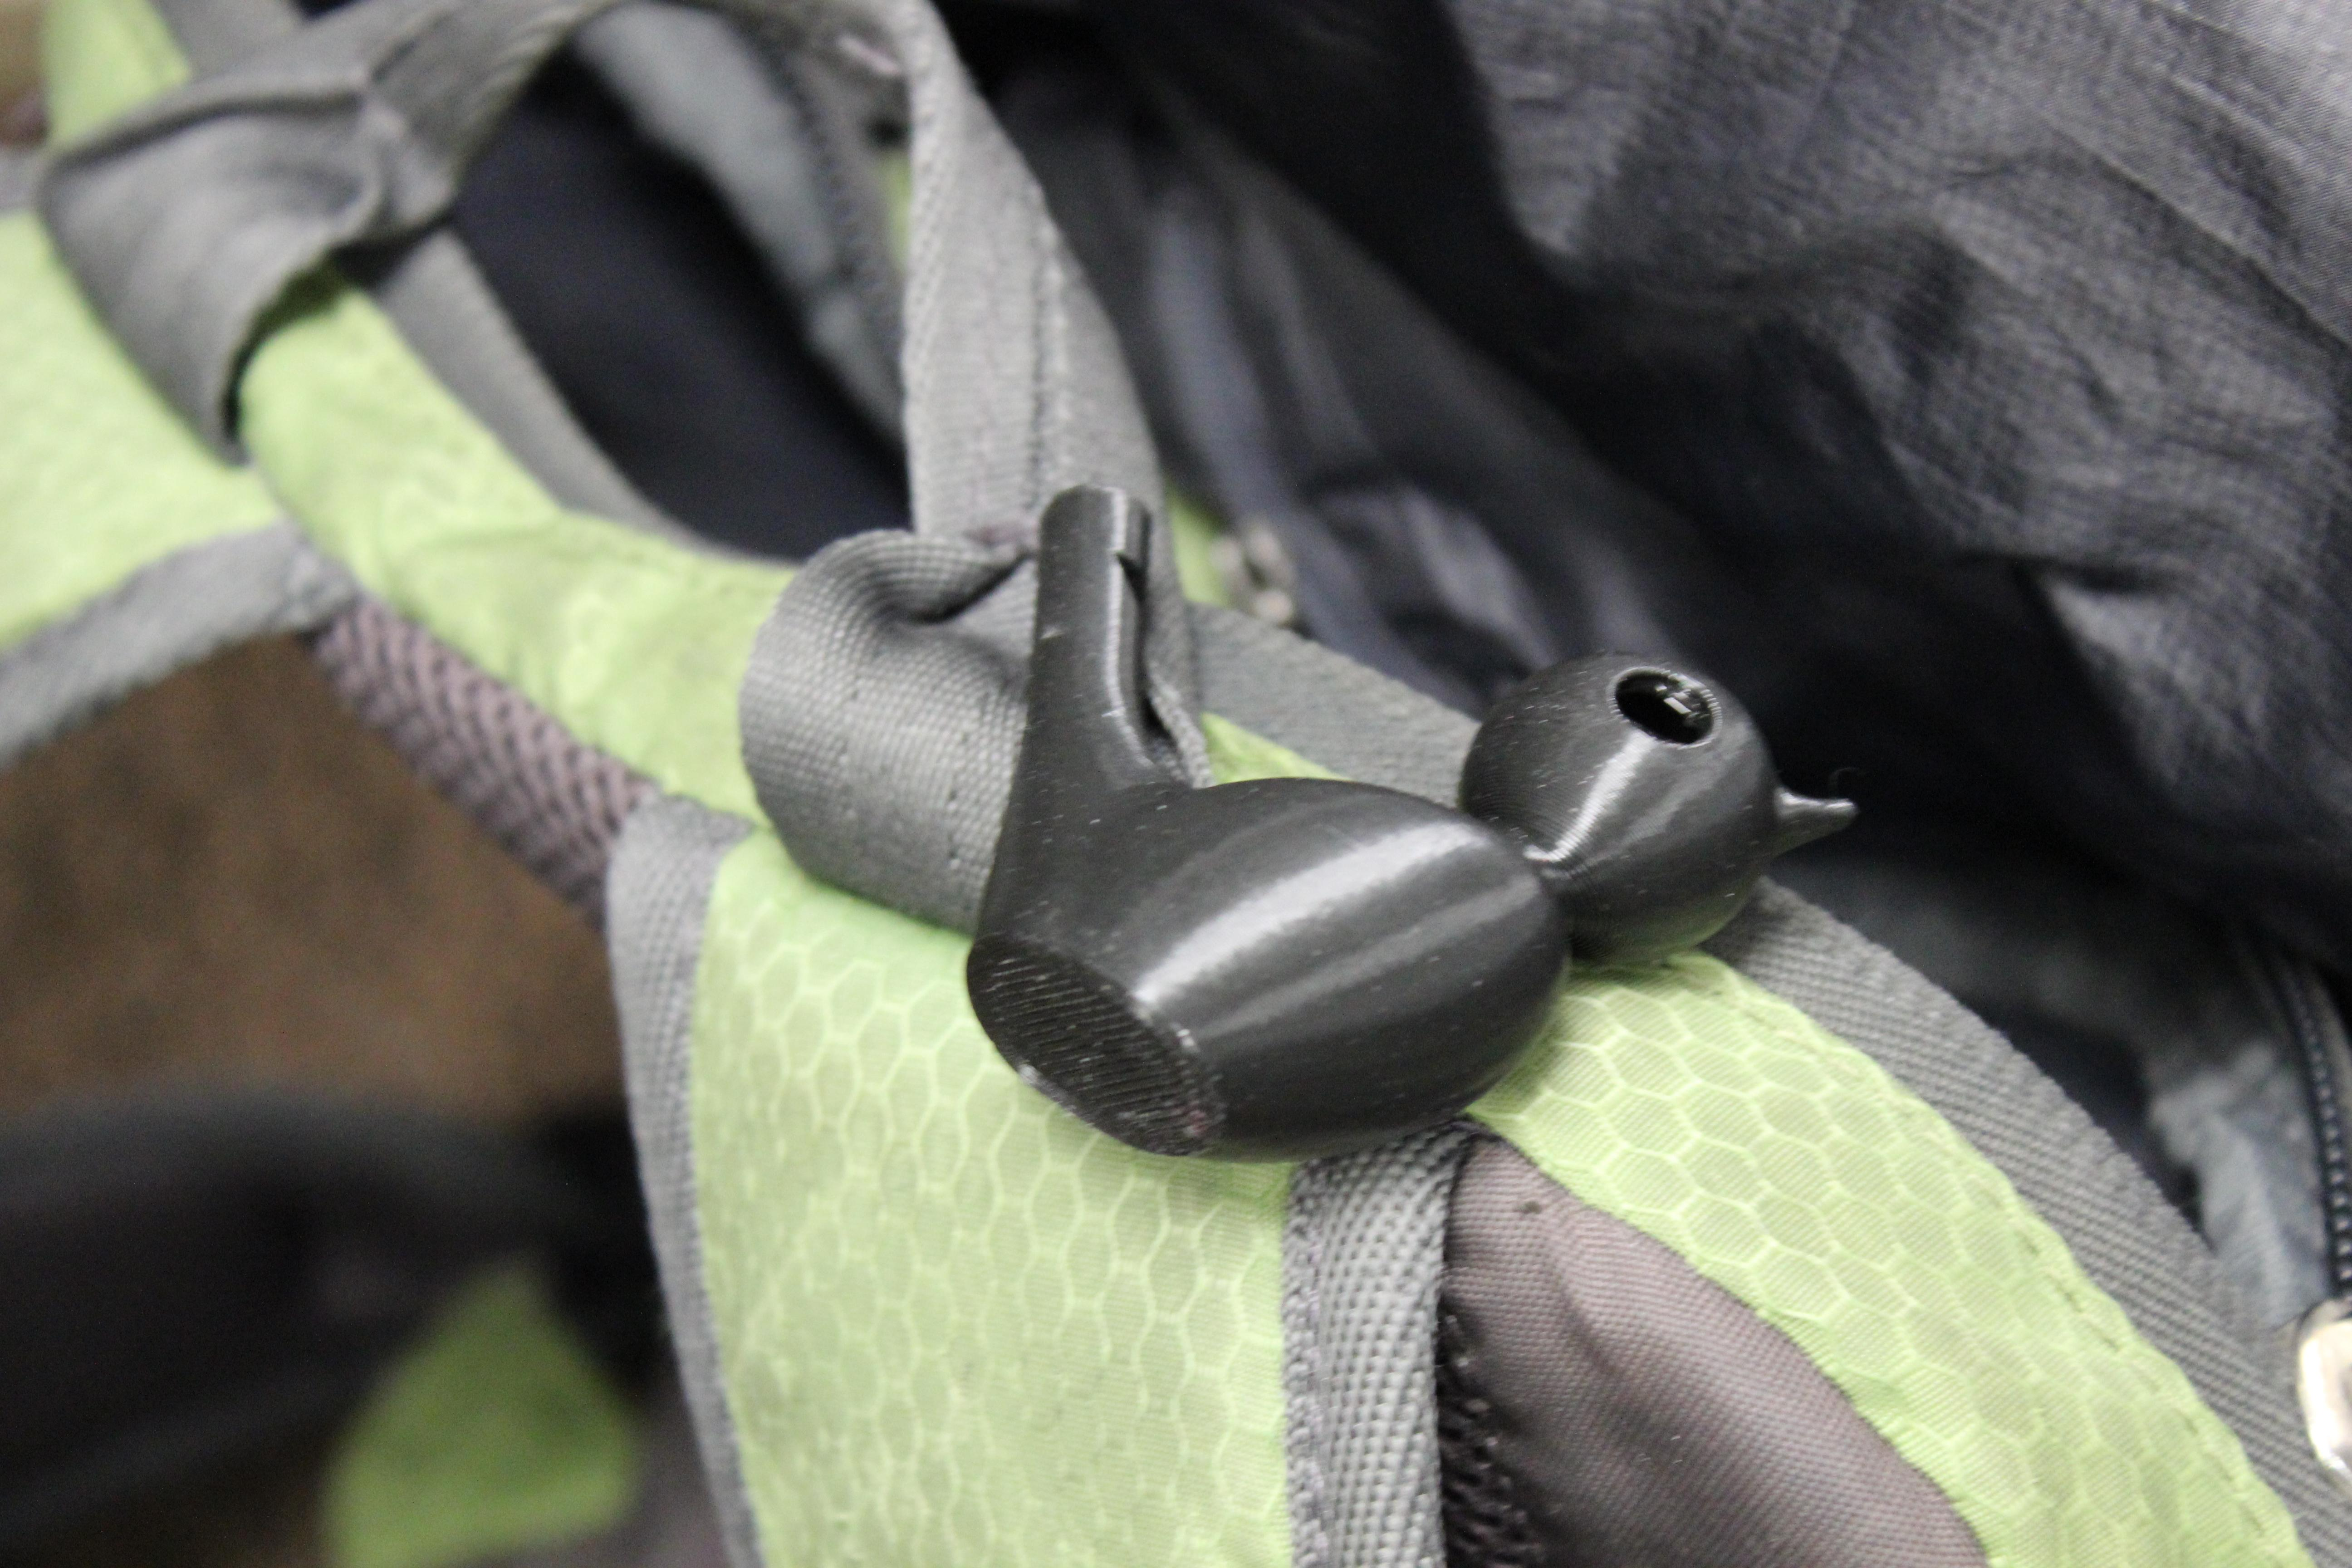birdCall: (908, 432, 1941, 1242)
